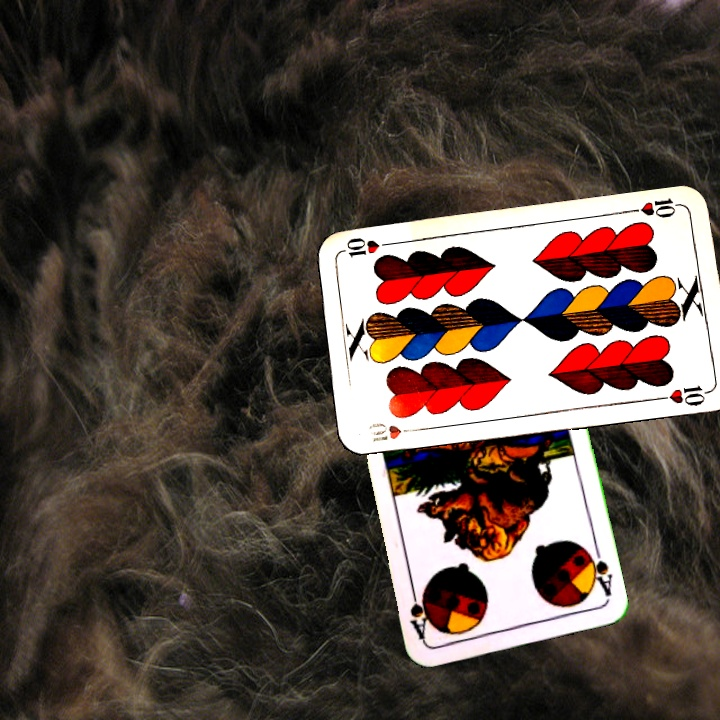H10: (626, 194, 685, 221), (365, 419, 422, 445)
SA: (581, 543, 615, 602)
